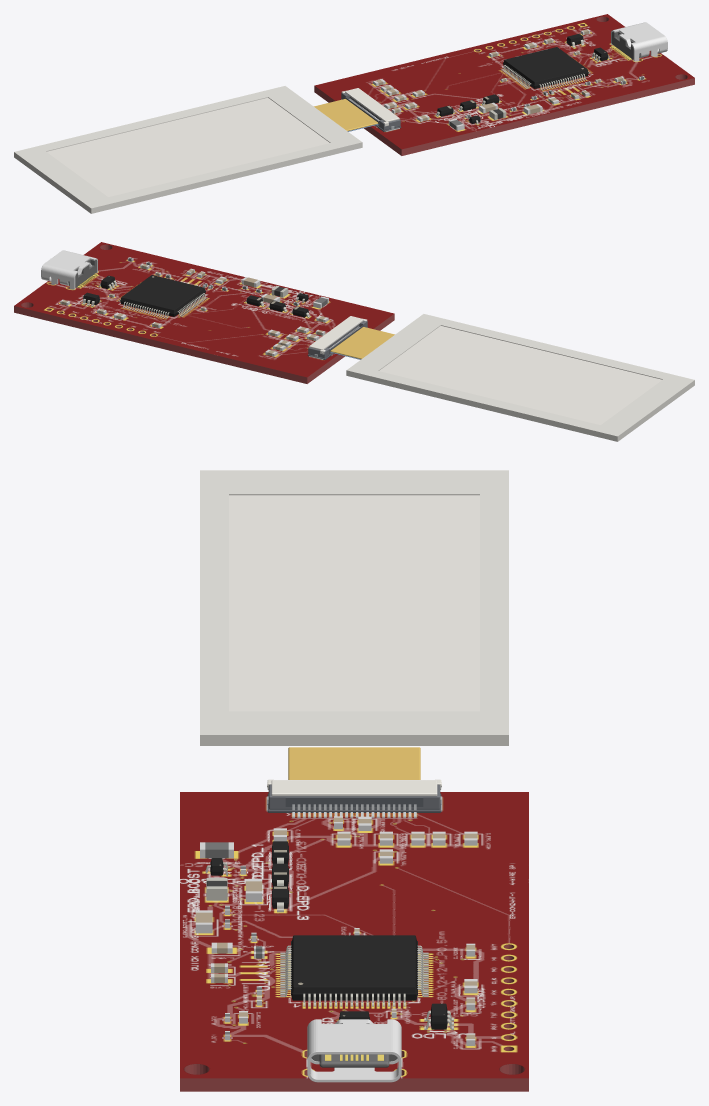
The picture shows the model from 3 angles, top to bottom: view 1: azimuth 30°, elevation 25°; view 2: azimuth 150°, elevation 25°; view 3: azimuth 270°, elevation 25°; orthographic projection. The views are drawn at different scales.
Visible parts, largest first — view 1: J_DISPLAY, Box0, U_MAIN, J_USB; view 2: J_DISPLAY, Box0, U_MAIN, J_USB; view 3: J_DISPLAY, Box0, U_MAIN, J_USB.
Part boxes in pixels (left/top/right/bottom): J_DISPLAY: left=14, top=86, right=401, bottom=213; Box0: left=314, top=14, right=694, bottom=155; U_MAIN: left=501, top=47, right=590, bottom=90; J_USB: left=611, top=22, right=667, bottom=61; J_DISPLAY: left=307, top=314, right=694, bottom=441; Box0: left=14, top=242, right=394, bottom=383; U_MAIN: left=118, top=275, right=207, bottom=318; J_USB: left=41, top=250, right=97, bottom=289; J_DISPLAY: left=200, top=470, right=508, bottom=817; Box0: left=180, top=792, right=528, bottom=1091; U_MAIN: left=280, top=935, right=428, bottom=1006; J_USB: left=307, top=1019, right=401, bottom=1082.
Bounding box in the file's own units: 132 × 4.65 × 33.
Materials: 26 (2 with a texture image).
